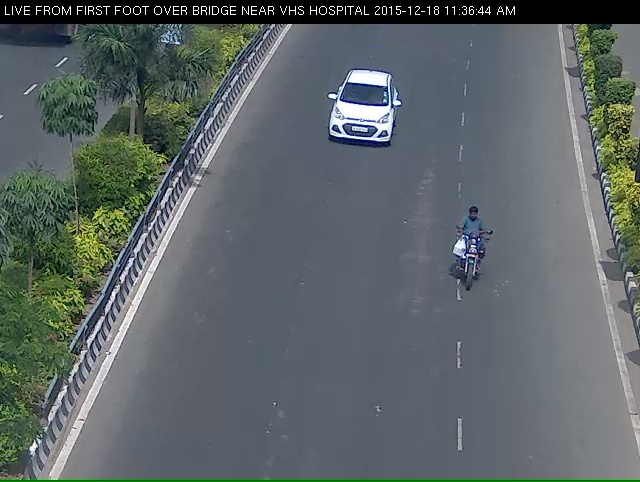Car: (310, 75, 412, 169)
Person: (439, 205, 510, 314)
